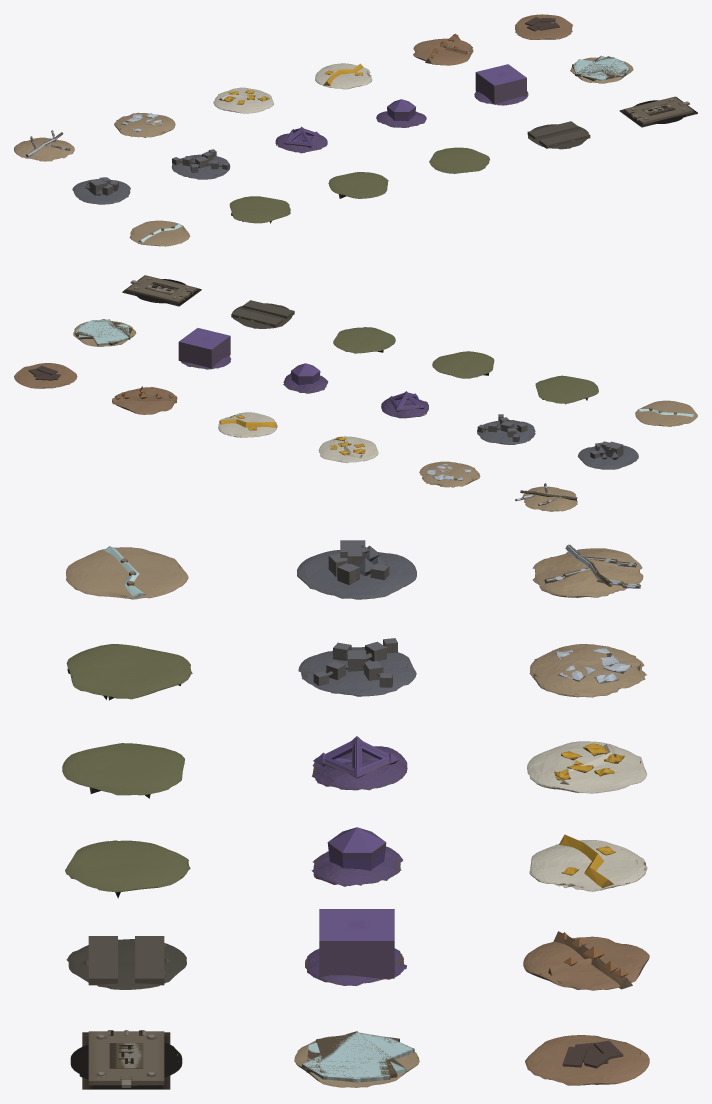
File: inclusion_kit.glb
The picture shows the model from 3 angles, top to bottom: view 1: azimuth 30°, elevation 25°; view 2: azimuth 150°, elevation 25°; view 3: azimuth 270°, elevation 25°; orthographic projection. The views are drawn at different scales.
Visible parts, largest first — view 1: LOD0_SF_INCL_EXOTIC_HOPPER_CUBE_V1, LOD0_SF_INCL_MK_LOCK_PLATE_V1, LOD0_SF_INCL_VENTED_SCAR_V1, LOD0_SF_INCL_GAS_FISSURE_BRANCH_V1, LOD0_SF_INCL_NICKEL_DENDRITE_V1, LOD0_SF_INCL_IRON_SPECULAR_V1, LOD0_SF_INCL_IRON_CHIP_RIDGE_V1, LOD0_SF_INCL_GAS_FISSURE_SHEAR_V1, LOD0_SF_INCL_GAS_FISSURE_RADIAL_V1, LOD0_SF_INCL_ICE_FRACTURE_VEIN_V1, LOD0_SF_INCL_GOLD_LEAF_V1, LOD0_SF_INCL_SILVER_SHEET_V1 (+13 smaller); view 2: LOD0_SF_INCL_EXOTIC_HOPPER_CUBE_V1, LOD0_SF_INCL_MK_LOCK_PLATE_V1, LOD0_SF_INCL_VENTED_SCAR_V1, LOD0_SF_INCL_NICKEL_CUBIC_V1, LOD0_SF_INCL_IRON_SPECULAR_V1, LOD0_SF_INCL_NICKEL_DENDRITE_V1, LOD0_SF_INCL_GAS_FISSURE_SHEAR_V1, LOD0_SF_INCL_GAS_FISSURE_BRANCH_V1, LOD0_SF_INCL_IRON_CHIP_RIDGE_V1, LOD0_SF_INCL_GAS_FISSURE_RADIAL_V1, LOD0_SF_INCL_ICE_SHEEN_PLATE_V1, LOD0_SF_INCL_ICE_FRACTURE_VEIN_V1 (+13 smaller); view 3: LOD0_SF_INCL_EXOTIC_HOPPER_CUBE_V1, LOD0_SF_INCL_MK_LOCK_PLATE_V1, LOD0_SF_INCL_VENTED_SCAR_V1, LOD0_SF_INCL_NICKEL_DENDRITE_V1, LOD0_SF_INCL_NICKEL_CUBIC_V1, LOD0_SF_INCL_IRON_SPECULAR_V1, LOD0_SF_INCL_GAS_FISSURE_SHEAR_V1, LOD0_SF_INCL_GAS_FISSURE_BRANCH_V1, LOD0_SF_INCL_IRON_CHIP_RIDGE_V1, LOD0_SF_INCL_GAS_FISSURE_RADIAL_V1, LOD0_SF_INCL_ICE_FRACTURE_VEIN_V1, LOD0_SF_INCL_SILVER_SHEET_V1 (+21 smaller).
Part boxes in pixels (x1,y1,x2,y2): LOD0_SF_INCL_EXOTIC_HOPPER_CUBE_V1: [474, 64, 528, 105]; LOD0_SF_INCL_MK_LOCK_PLATE_V1: [619, 96, 697, 127]; LOD0_SF_INCL_VENTED_SCAR_V1: [527, 121, 590, 149]; LOD0_SF_INCL_GAS_FISSURE_BRANCH_V1: [328, 172, 388, 198]; LOD0_SF_INCL_NICKEL_DENDRITE_V1: [171, 149, 229, 179]; LOD0_SF_INCL_IRON_SPECULAR_V1: [515, 14, 572, 39]; LOD0_SF_INCL_IRON_CHIP_RIDGE_V1: [413, 33, 473, 65]; LOD0_SF_INCL_GAS_FISSURE_SHEAR_V1: [429, 147, 489, 173]; LOD0_SF_INCL_GAS_FISSURE_RADIAL_V1: [229, 196, 290, 223]; LOD0_SF_INCL_ICE_FRACTURE_VEIN_V1: [129, 220, 190, 246]; LOD0_SF_INCL_GOLD_LEAF_V1: [213, 87, 273, 113]; LOD0_SF_INCL_SILVER_SHEET_V1: [114, 112, 175, 137]; LOD0_SF_INCL_EXOTIC_HOPPER_CUBE_V1: [178, 328, 230, 369]; LOD0_SF_INCL_MK_LOCK_PLATE_V1: [122, 275, 201, 306]; LOD0_SF_INCL_VENTED_SCAR_V1: [231, 300, 294, 328]; LOD0_SF_INCL_NICKEL_CUBIC_V1: [578, 441, 638, 469]; LOD0_SF_INCL_IRON_SPECULAR_V1: [14, 363, 77, 388]; LOD0_SF_INCL_NICKEL_DENDRITE_V1: [477, 414, 535, 444]; LOD0_SF_INCL_GAS_FISSURE_SHEAR_V1: [333, 327, 395, 353]; LOD0_SF_INCL_GAS_FISSURE_BRANCH_V1: [432, 351, 494, 378]; LOD0_SF_INCL_IRON_CHIP_RIDGE_V1: [112, 386, 177, 414]; LOD0_SF_INCL_GAS_FISSURE_RADIAL_V1: [535, 375, 598, 404]; LOD0_SF_INCL_ICE_SHEEN_PLATE_V1: [73, 319, 136, 346]; LOD0_SF_INCL_ICE_FRACTURE_VEIN_V1: [635, 400, 697, 426]; LOD0_SF_INCL_EXOTIC_HOPPER_CUBE_V1: [305, 909, 406, 985]; LOD0_SF_INCL_MK_LOCK_PLATE_V1: [70, 1030, 182, 1089]; LOD0_SF_INCL_VENTED_SCAR_V1: [66, 936, 186, 989]; LOD0_SF_INCL_NICKEL_DENDRITE_V1: [298, 638, 416, 696]; LOD0_SF_INCL_NICKEL_CUBIC_V1: [297, 540, 416, 599]; LOD0_SF_INCL_IRON_SPECULAR_V1: [525, 1035, 649, 1085]; LOD0_SF_INCL_GAS_FISSURE_SHEAR_V1: [65, 840, 190, 898]; LOD0_SF_INCL_GAS_FISSURE_BRANCH_V1: [62, 743, 184, 798]; LOD0_SF_INCL_IRON_CHIP_RIDGE_V1: [523, 931, 649, 990]; LOD0_SF_INCL_GAS_FISSURE_RADIAL_V1: [66, 644, 192, 700]; LOD0_SF_INCL_ICE_FRACTURE_VEIN_V1: [66, 546, 188, 599]; LOD0_SF_INCL_SILVER_SHEET_V1: [529, 644, 645, 697].
Size of the model in its own units: 12.25 by 0.6 by 5.61.
1 material, 1 textured.
